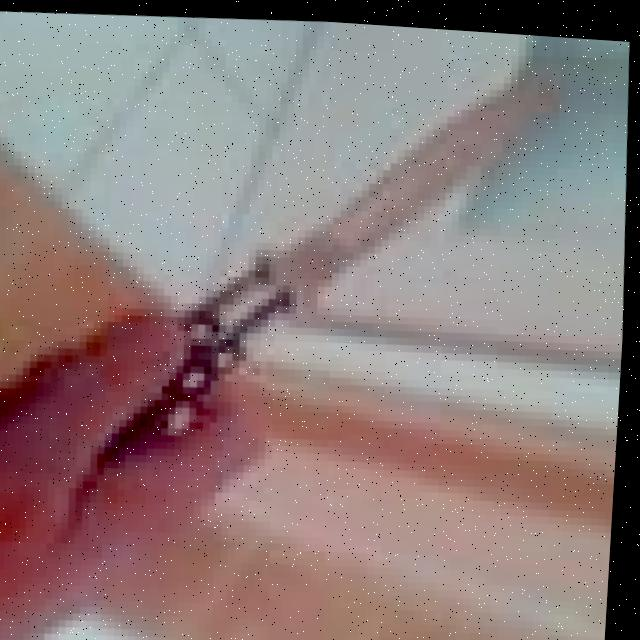knife: (162, 17, 597, 429)
